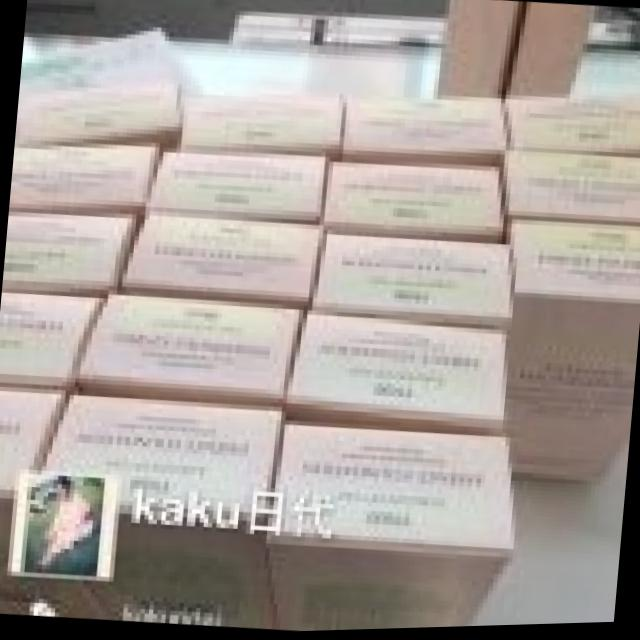box: (37, 395, 282, 627), (266, 426, 513, 633), (507, 226, 640, 485), (281, 307, 511, 436), (70, 295, 308, 408), (0, 382, 110, 616), (308, 236, 510, 329), (117, 216, 319, 307), (140, 153, 329, 227), (327, 163, 506, 239), (344, 91, 505, 166), (2, 211, 140, 295), (8, 144, 164, 215), (14, 85, 182, 149), (181, 94, 343, 160), (505, 153, 640, 231), (0, 292, 104, 391), (497, 95, 640, 162)
